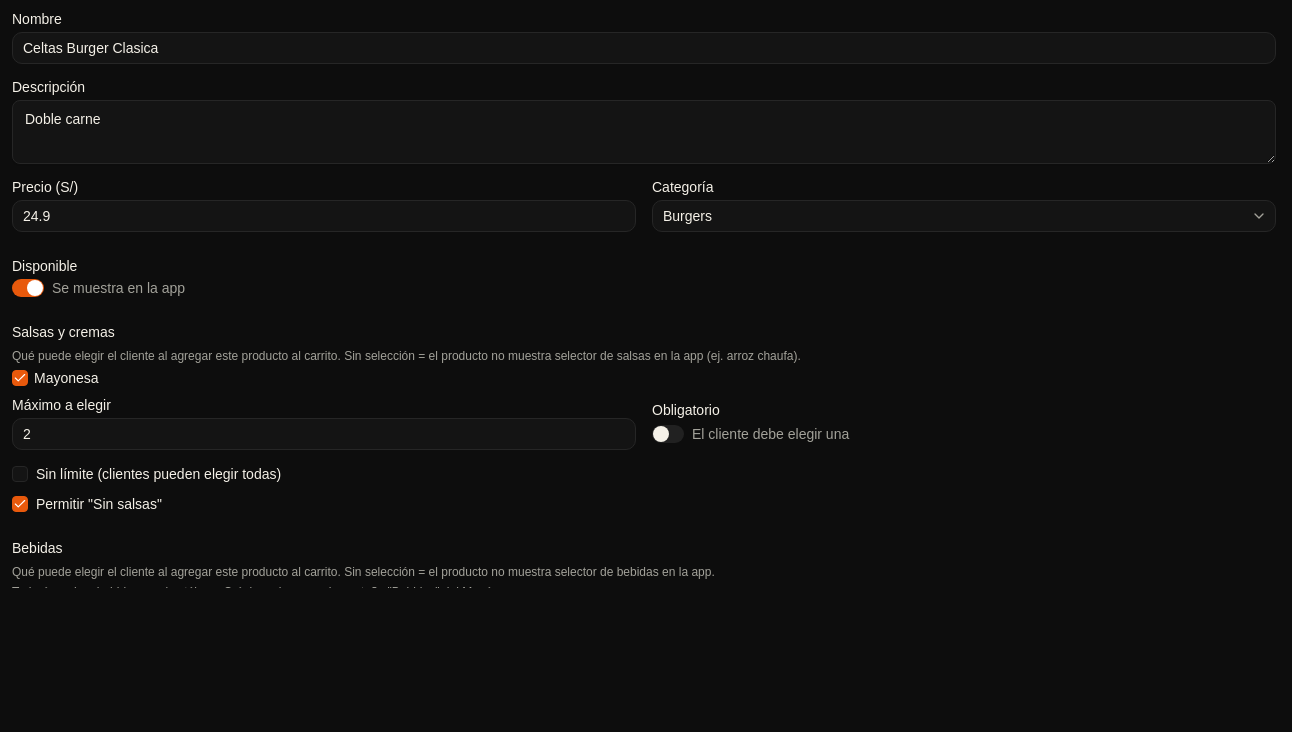
ItemForm - salsas "Sin límite" › sin "Sin límite" y con el input vacío, muestra error y no envía
This screenshot has width=1292, height=732.
Clear the number field labelled "Máximo a elegir" at (324, 434), box [12, 418, 636, 450]
(page scrolled)
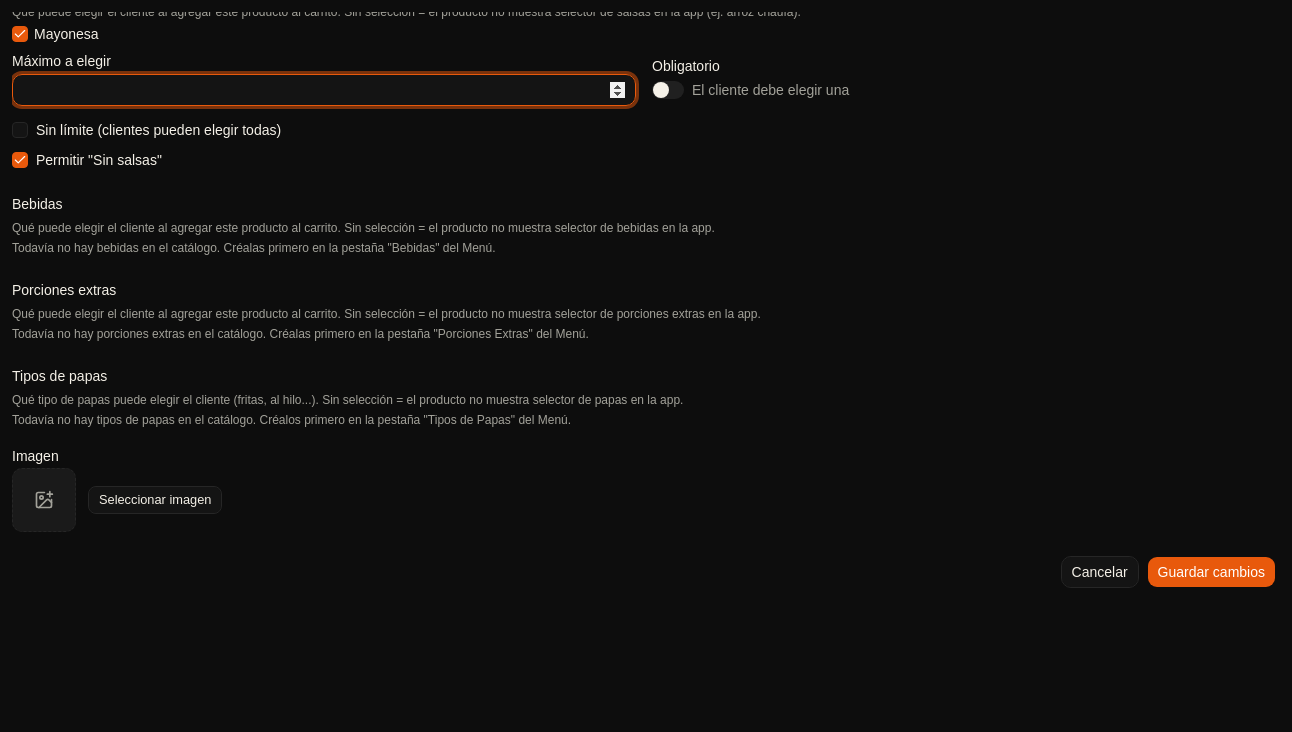
Click the button "Guardar cambios" at (1211, 572), box [1147, 556, 1276, 588]
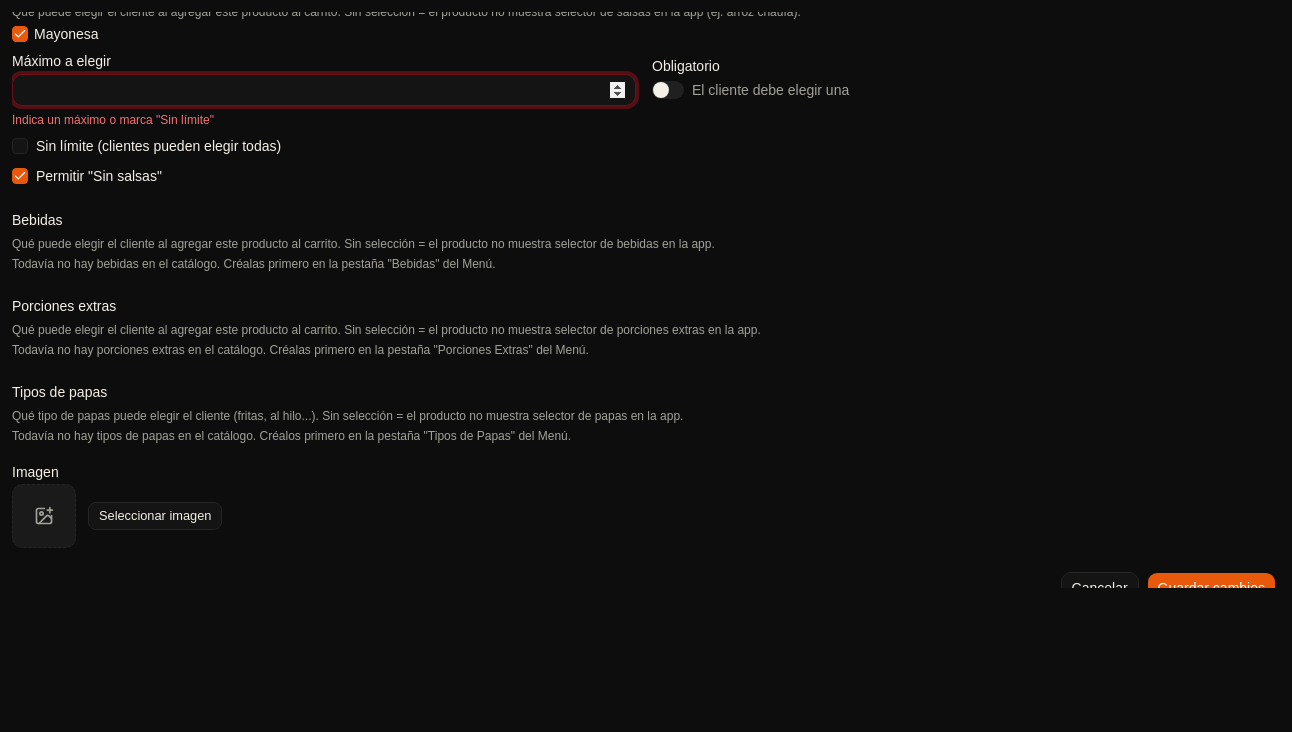
Expected: the text "Indica un máximo o marca \"Sin límite\"" is shown, [12, 113, 214, 127]
